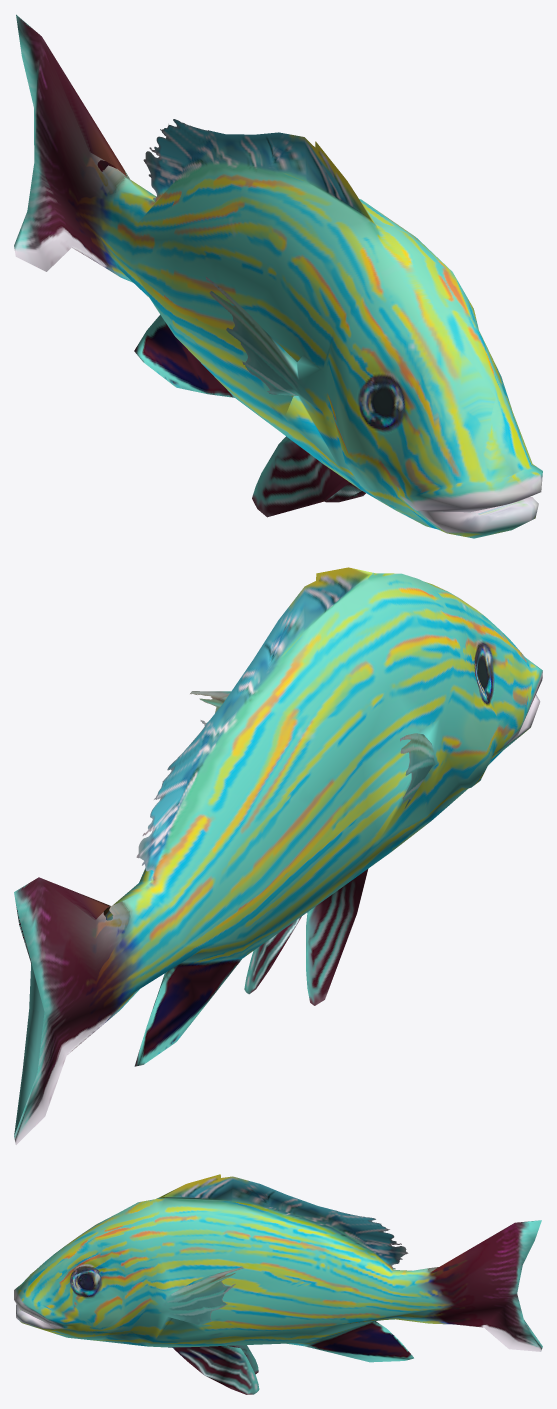
Rendered from RoncoParticle.fbx.
The picture shows the model from 3 angles, top to bottom: view 1: azimuth 30°, elevation 25°; view 2: azimuth 150°, elevation 25°; view 3: azimuth 270°, elevation 25°; orthographic projection. The views are drawn at different scales.
Parts seen in each view (by area): view 1: RoncoParticle.001; view 2: RoncoParticle.001; view 3: RoncoParticle.001.
Boxes of the visible parts, x1,y1,x2,y2 form: RoncoParticle.001: (14,14,542,538); RoncoParticle.001: (14,567,542,1144); RoncoParticle.001: (14,1174,542,1394).
Size of the model in its own units: 9.33 by 17.65 by 39.99.
